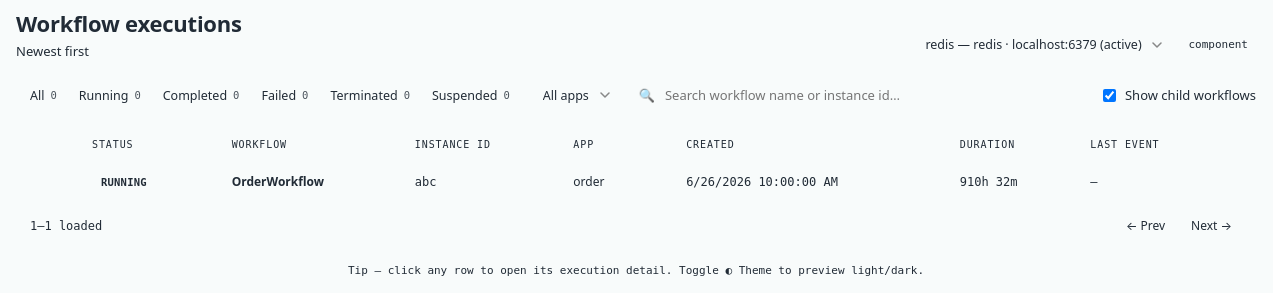
Scenario: Workflows › Prev navigates back to the previous page after going Next
Expected: the link "abc" is shown, [415, 174, 436, 188]
Expected: the button "← Prev" is disabled, [1116, 212, 1175, 239]
Note: Go to the next page.
Click the button "Next →" at (1212, 226), box [1181, 212, 1242, 239]
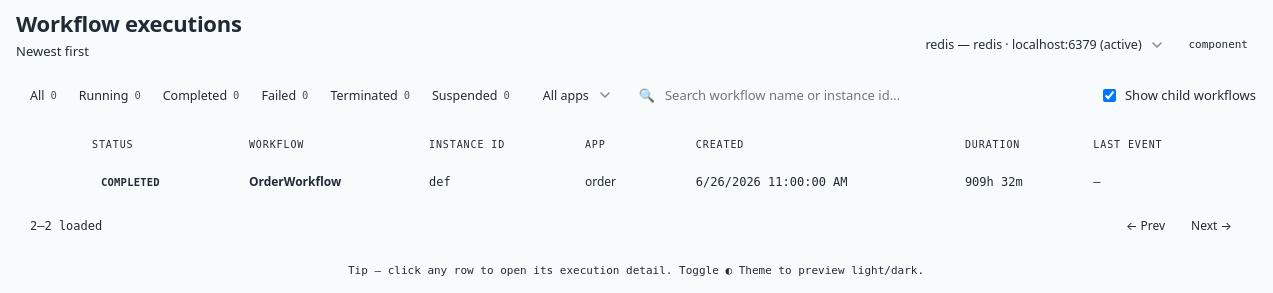
Expected: the link "def" is shown, [429, 174, 451, 188]
Expected: the link "abc" is gone
Note: Go back — the first page must reappear and Prev disable again.
Click the button "← Prev" at (1146, 226), box [1116, 212, 1175, 239]
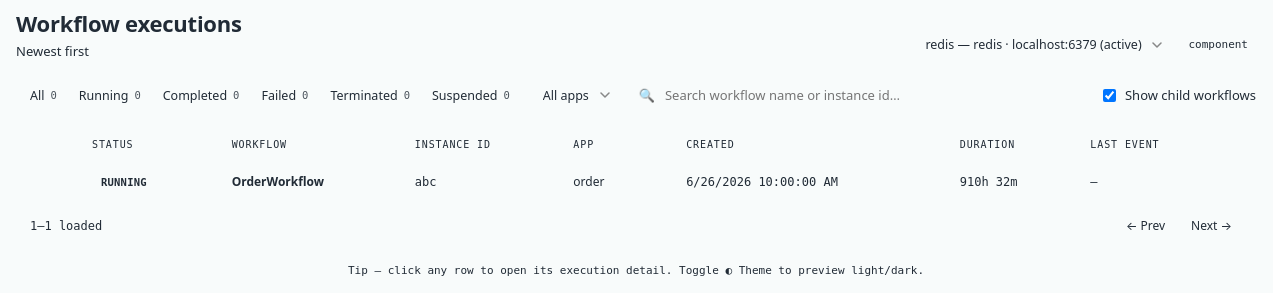
Expected: the link "abc" is shown, [415, 174, 436, 188]
Expected: the link "def" is gone
